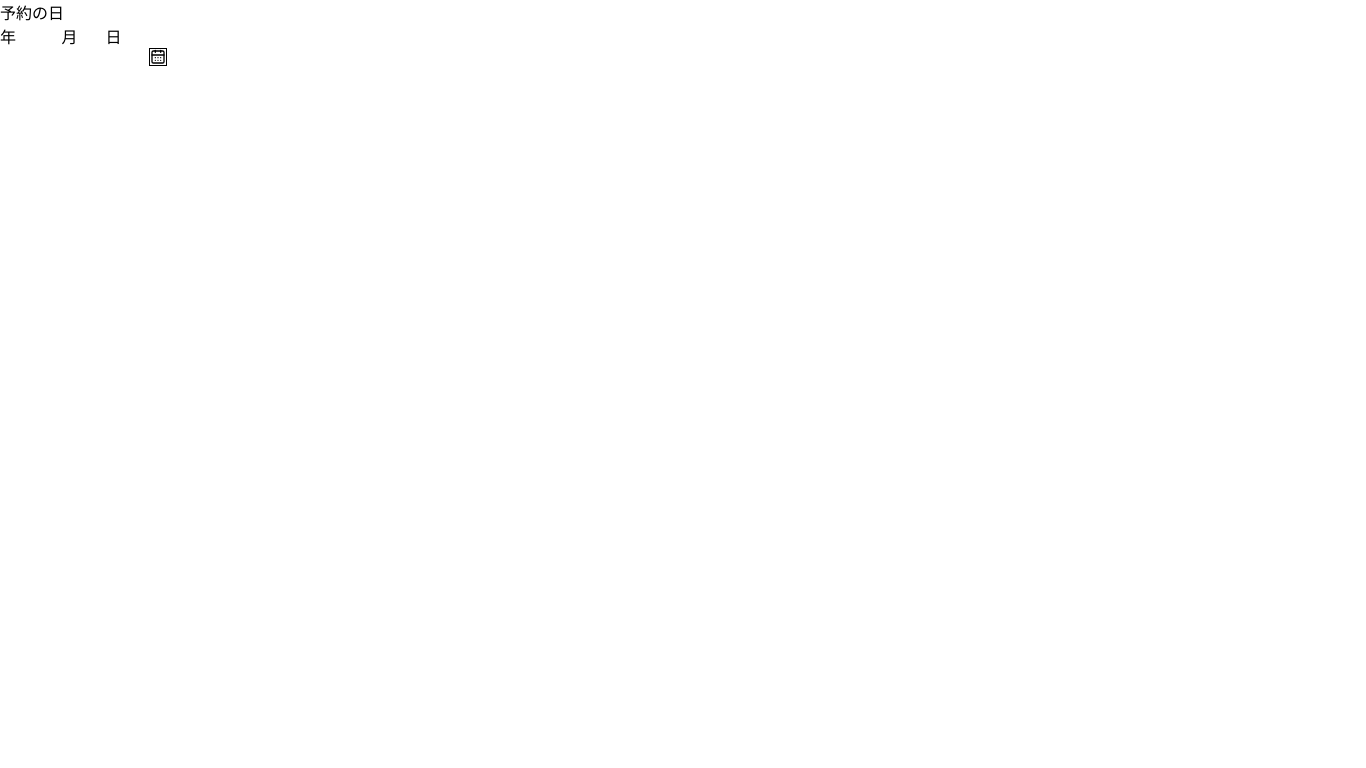
it: DatePicker and DateRangePicker in the Japanese era › opens the calendar in the era
What coordinates should you click on to do the following:
click the button named "予約の日をカレンダーから選ぶ"
I would click on:
 (158, 57)
Its box is left=149, top=48, right=167, bottom=66.
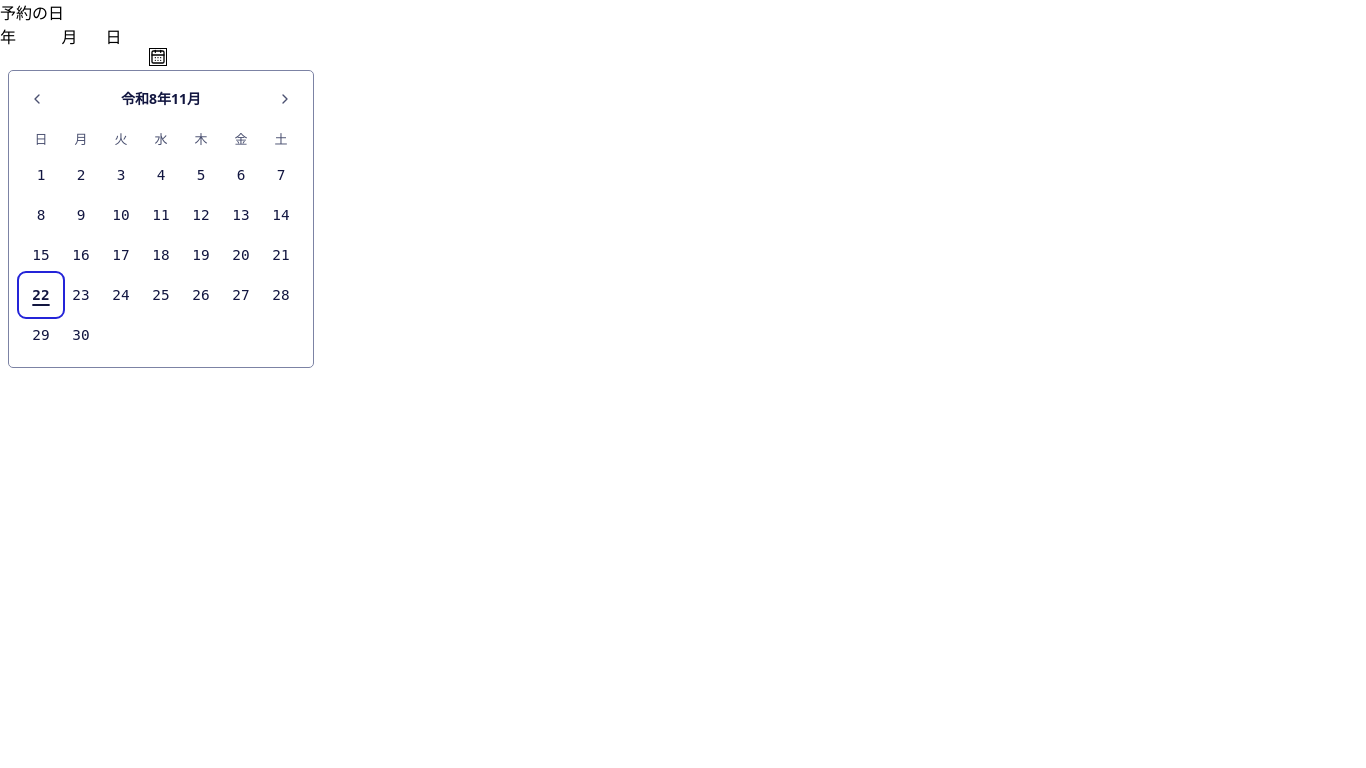
expect the table named "令和8年11月" is shown: met, box left=21, top=123, right=301, bottom=355
